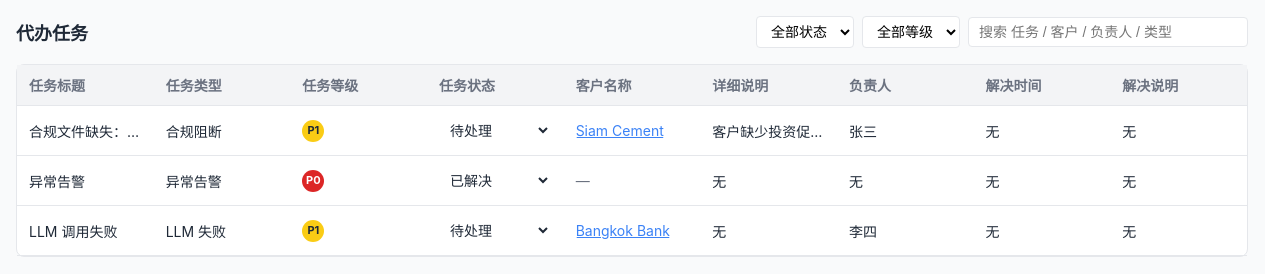
Scenario: TaskList › combines status + priority filter with text search
Expected: the button "Siam Cement" is shown, [576,122,664,139]
Select "待处理" in the dropdown with test id "filter-status" at {"x": 805, "y": 32}, box [756,16,854,48]
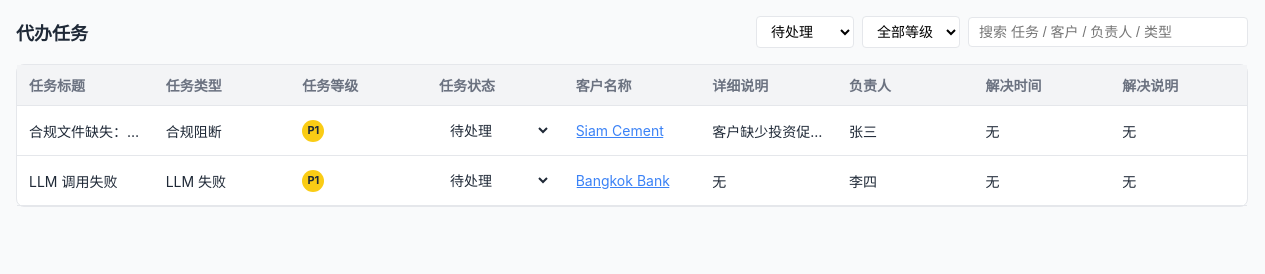
Select "P1" in the dropdown with test id "filter-priority" at {"x": 911, "y": 32}, box [862,16,960,48]
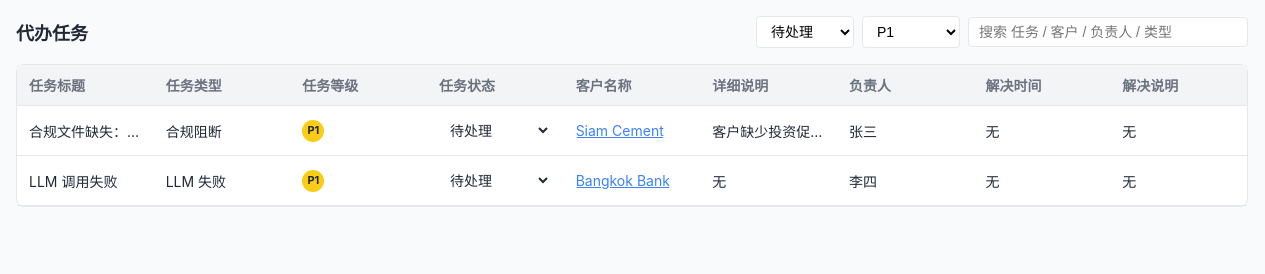
Expected: the text "合规文件缺失：泰国 BOI" is shown, [17,106,154,156]
Expected: the text "LLM 调用失败" is shown, [17,156,154,206]
Type "LLM" into the search field with test id "search-input" at {"x": 1108, "y": 32}, box [968,17,1248,47]
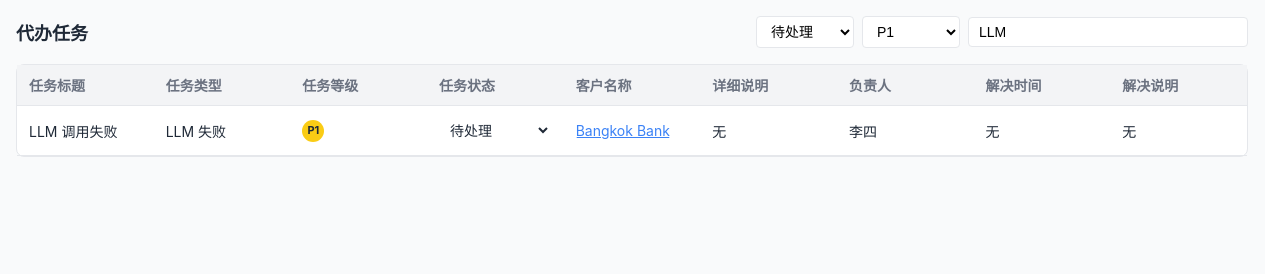
Expected: the text "LLM 调用失败" is shown, [17,106,154,156]
Expected: the text "合规文件缺失：泰国 BOI" is gone
